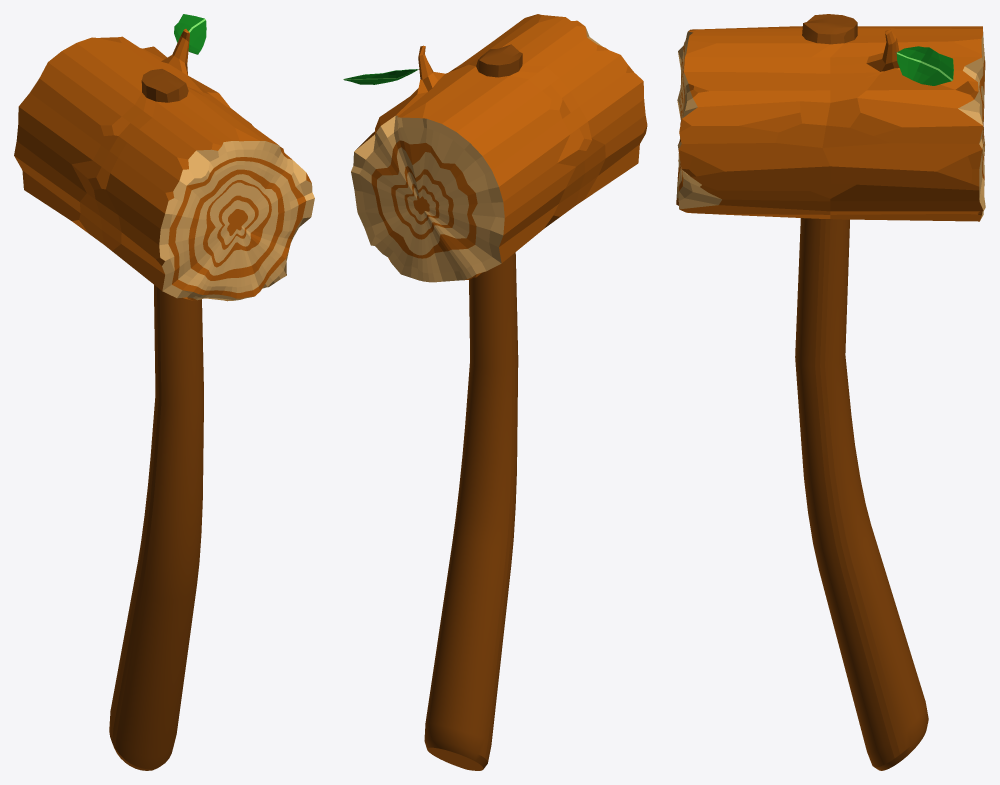
3 views of the same model, side by side, from view 1: azimuth 30°, elevation 25°; view 2: azimuth 150°, elevation 25°; view 3: azimuth 270°, elevation 25° (orthographic). The views are drawn at different scales.
Visible parts, largest first — view 1: 1; view 2: 1; view 3: 1.
Part boxes in pixels (box(x1,y1,x2,y2)): 1: box(14, 14, 314, 770); 1: box(343, 14, 647, 770); 1: box(676, 14, 985, 770).
Size of the model in its own units: 177 by 688 by 255.
